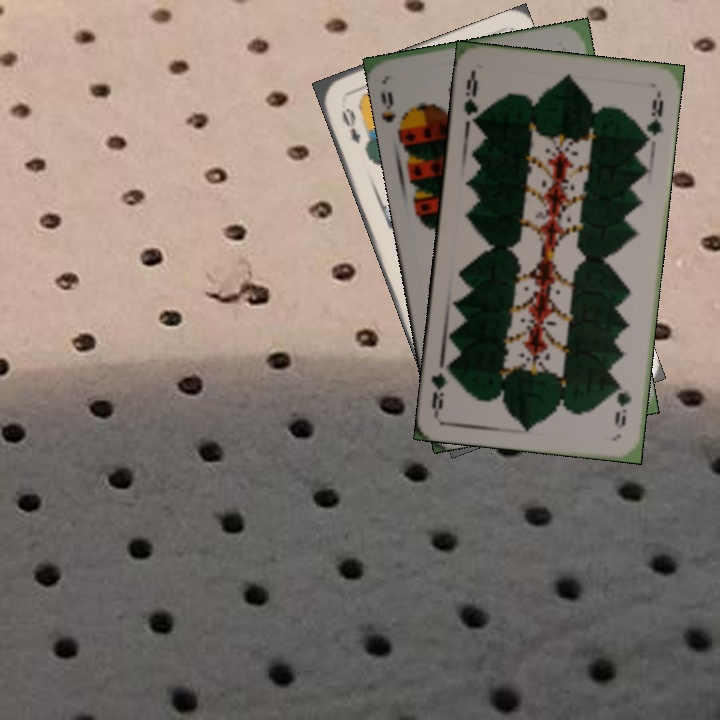EO: (337, 104, 364, 146)
G9: (459, 68, 483, 128), (610, 378, 633, 432)
S9: (376, 87, 399, 126)
